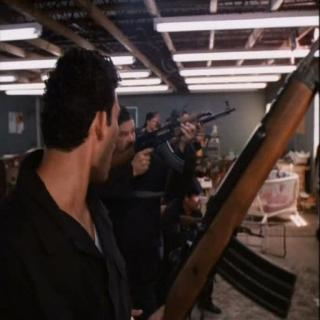gun: (98, 94, 240, 186)
